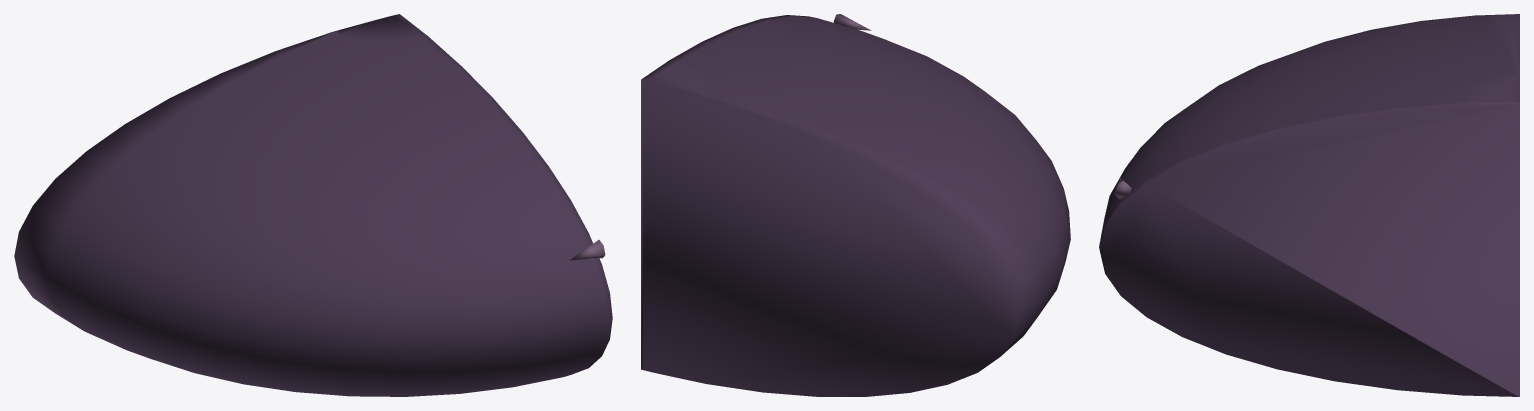
The model's file is newshu-129-f3.glb.
3 views of the same model, side by side, from view 1: azimuth 30°, elevation 25°; view 2: azimuth 150°, elevation 25°; view 3: azimuth 270°, elevation 25° (orthographic). The views are drawn at different scales.
Parts seen in each view (by area): view 1: newshu-129-f3; view 2: newshu-129-f3; view 3: newshu-129-f3.
Boxes of the visible parts, box(x1,y1,x2,y2) form: newshu-129-f3: box(14, 14, 612, 396); newshu-129-f3: box(641, 14, 1070, 396); newshu-129-f3: box(1099, 14, 1519, 396).
Size of the model in its own units: 1.96 by 1.44 by 1.88.
